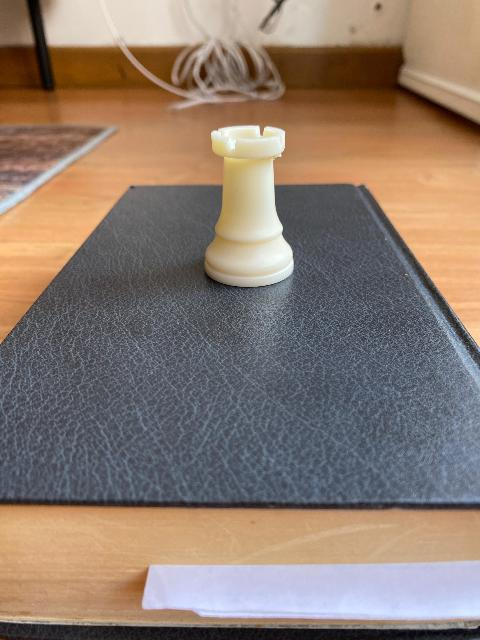white-rook: (203, 124, 295, 288)
